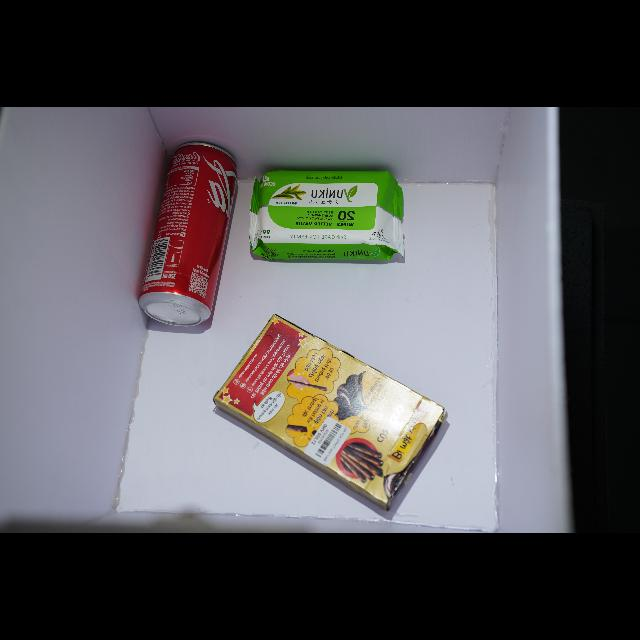banh_toppo_socola: (214, 315, 445, 509)
coca_cola: (139, 143, 237, 326)
khan_giay: (249, 171, 404, 260)
